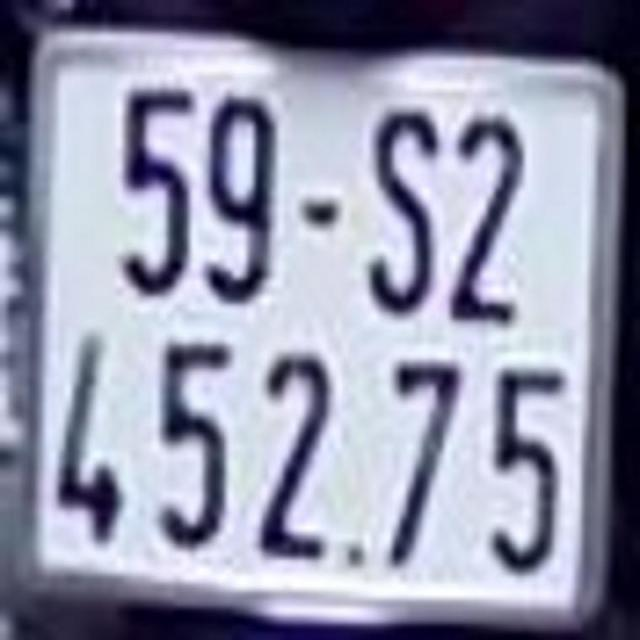2: (453, 115, 526, 320), (258, 354, 321, 559)
4: (56, 331, 130, 538)
5: (490, 361, 561, 570), (165, 334, 232, 542), (122, 89, 188, 287)
7: (385, 353, 455, 561)
9: (203, 90, 272, 304)
S: (363, 105, 440, 313)
